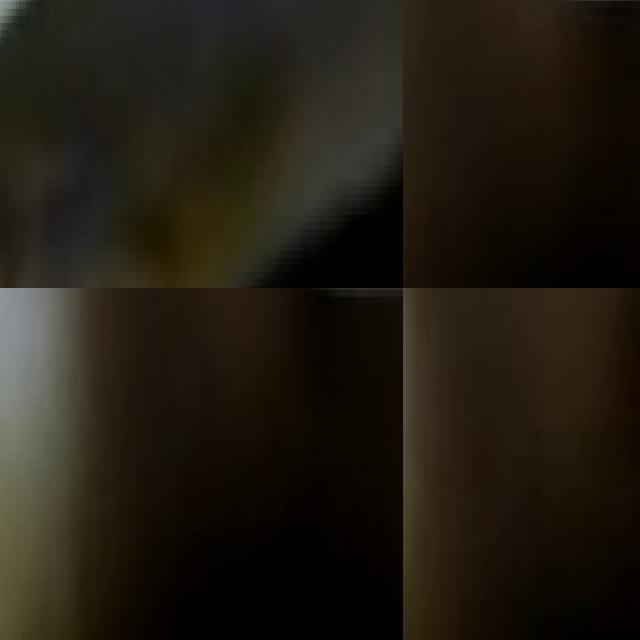fish: (0, 0, 403, 288), (403, 0, 640, 58)
